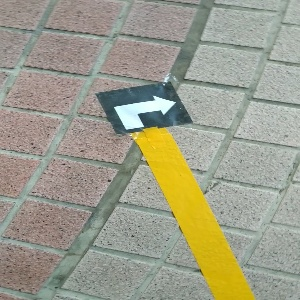right: (94, 81, 193, 134)
